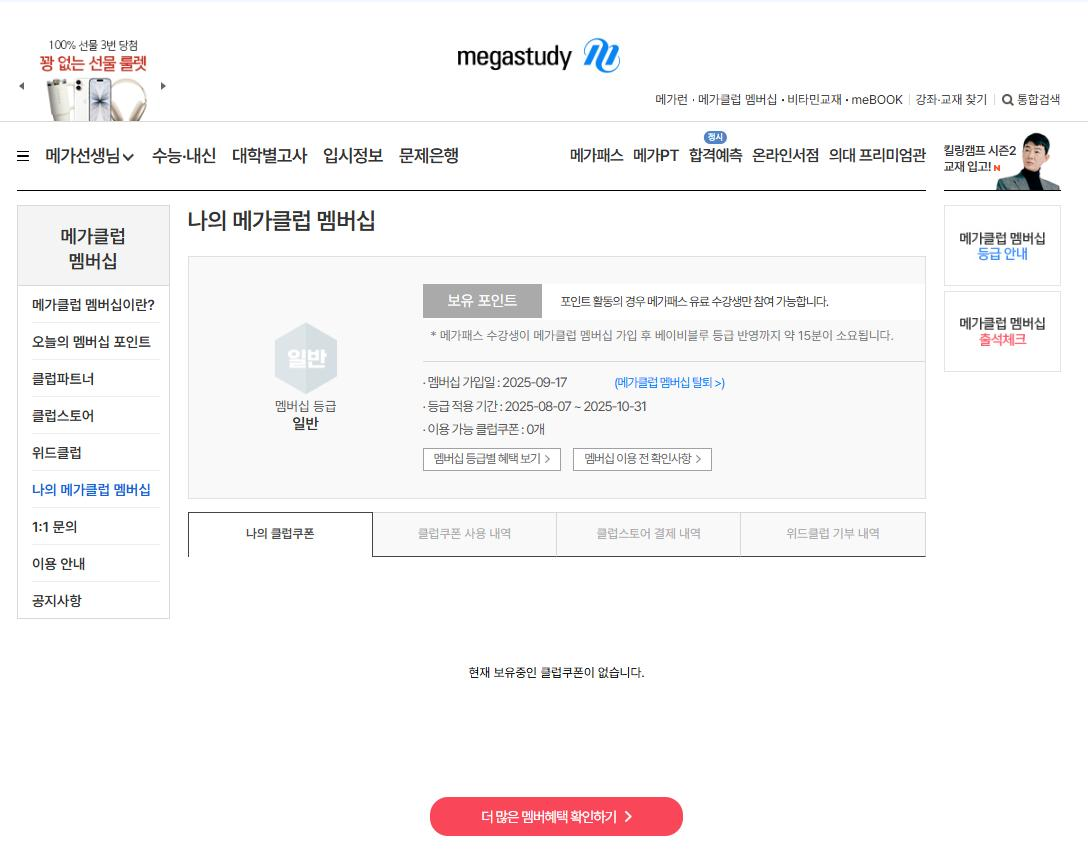button: (428, 799, 696, 841), (190, 508, 374, 558), (951, 295, 1065, 362), (945, 208, 1046, 280), (563, 516, 731, 554), (763, 511, 924, 545), (946, 129, 1061, 176), (378, 514, 535, 548), (426, 280, 546, 319), (36, 480, 156, 506), (578, 448, 711, 470), (426, 445, 556, 467), (618, 375, 750, 396), (140, 144, 226, 175), (34, 329, 160, 350), (21, 368, 114, 395), (30, 291, 129, 316), (234, 136, 314, 165), (28, 404, 115, 429), (405, 136, 480, 163), (834, 146, 918, 170), (702, 90, 785, 113), (19, 436, 99, 459), (328, 141, 389, 170), (38, 513, 114, 536), (746, 150, 835, 169), (999, 88, 1070, 109), (680, 146, 736, 170), (570, 145, 635, 165), (842, 93, 905, 111), (648, 90, 701, 111), (911, 91, 991, 104), (641, 144, 681, 169), (783, 88, 834, 106), (24, 559, 111, 569), (33, 598, 89, 611)
checkbox: (19, 146, 131, 170)
popup: (21, 35, 165, 122)
